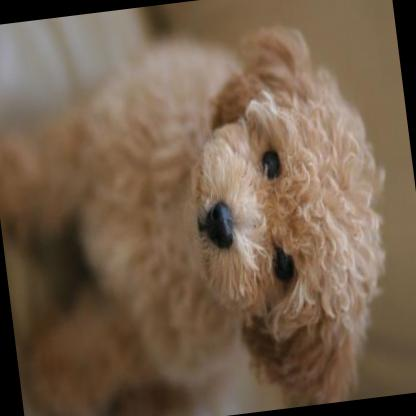toy_poodle: (0, 8, 405, 416)
